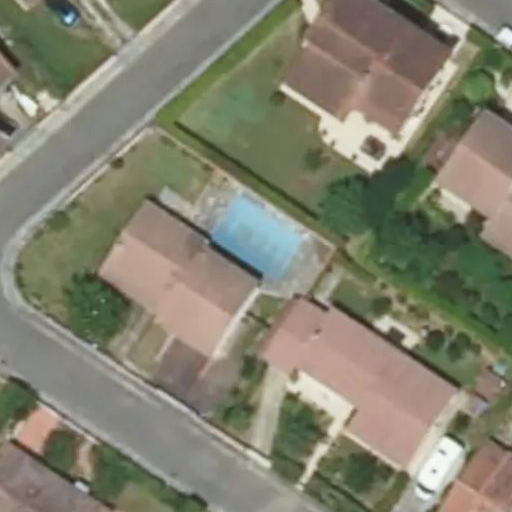pool: (210, 238, 301, 245)
